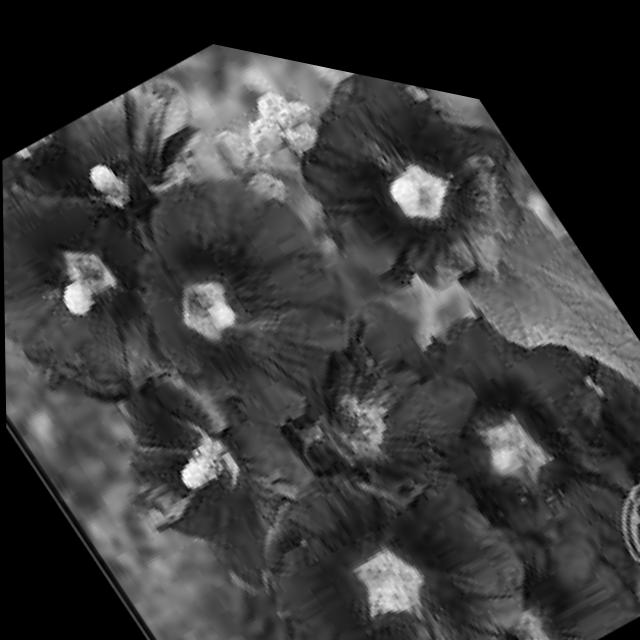Flower: (320, 224, 640, 640), (86, 114, 401, 483), (253, 42, 563, 342), (220, 383, 562, 640), (84, 299, 352, 619), (1, 123, 225, 455)
